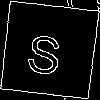S: (24, 25, 65, 76)
